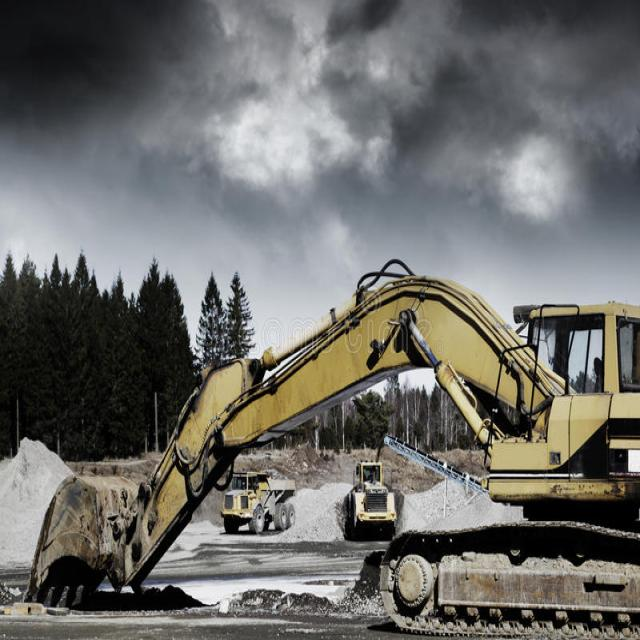dump_truck: (216, 467, 301, 530)
excavator: (12, 251, 639, 639)
